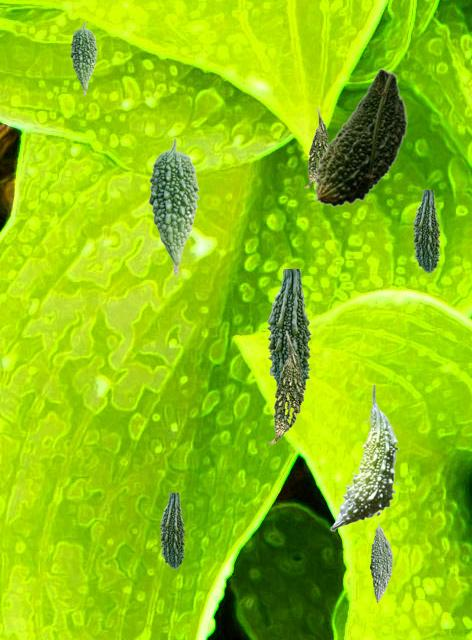ampalaya: (314, 68, 407, 206), (330, 385, 398, 530), (148, 137, 198, 275), (266, 269, 310, 387), (268, 330, 305, 443), (412, 190, 439, 271), (304, 106, 328, 187), (70, 21, 96, 95), (159, 493, 184, 567), (370, 520, 392, 601)
